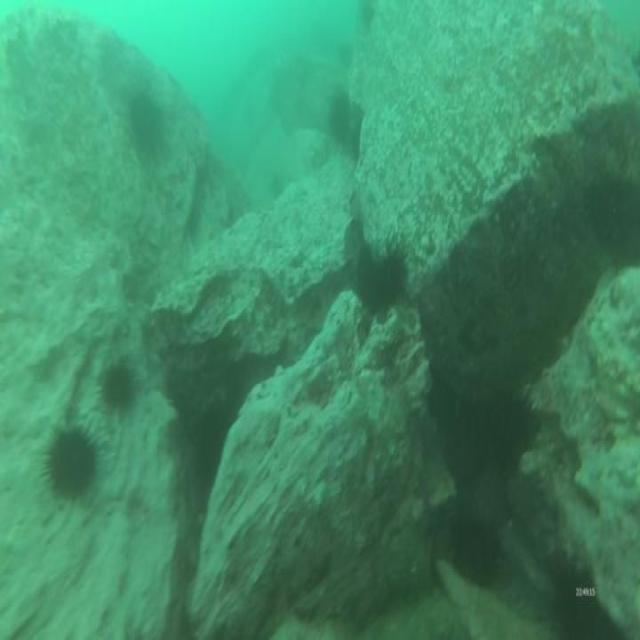echinus: (39, 422, 104, 507), (442, 392, 494, 491), (590, 168, 640, 268), (354, 238, 410, 322), (543, 559, 598, 640), (447, 510, 502, 591), (126, 85, 166, 158), (95, 357, 139, 420), (324, 82, 354, 153), (335, 36, 355, 79), (360, 0, 379, 35)
